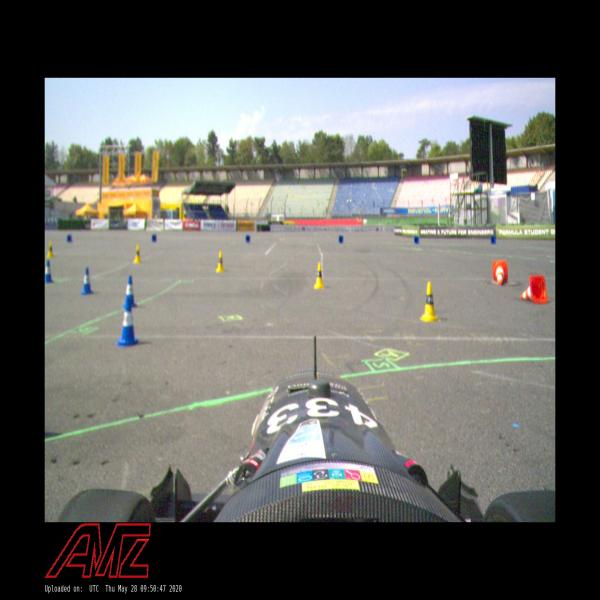blue_cone: (114, 295, 139, 348), (122, 275, 137, 309), (80, 266, 93, 295), (44, 259, 54, 284)
orange_cone: (520, 274, 548, 304), (492, 260, 509, 287)
yellow_cone: (419, 281, 441, 323), (314, 262, 326, 290), (215, 251, 225, 272), (133, 244, 142, 264), (46, 240, 54, 258)
